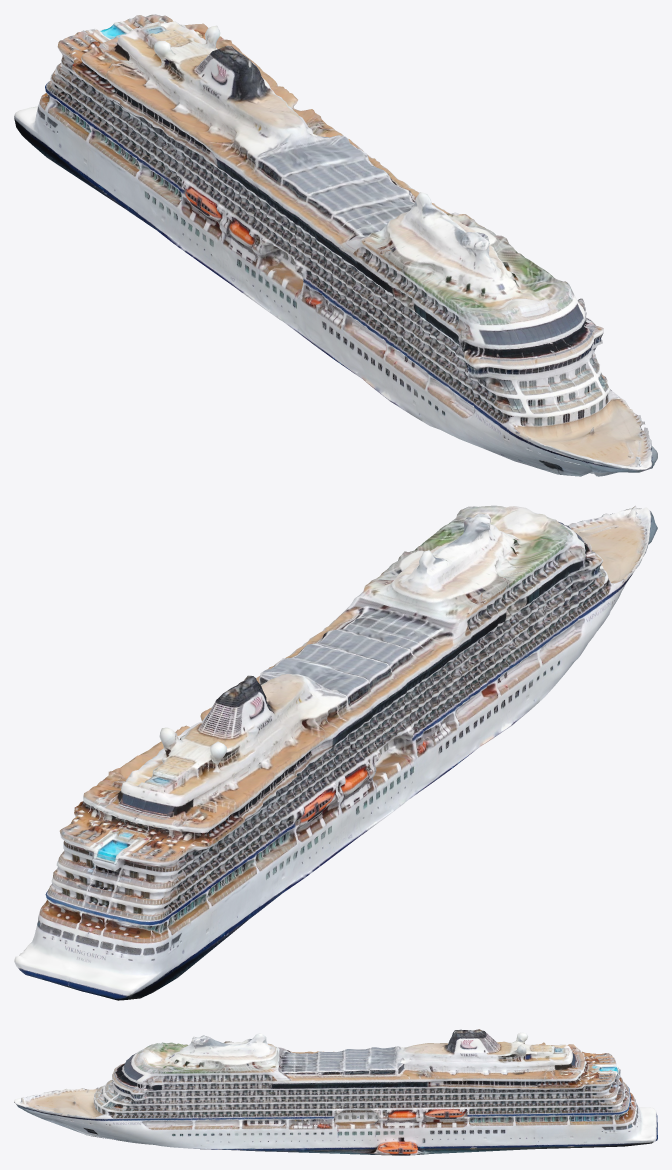
The model's file is viking_cruise_ship.glb.
3 renders of one model, top to bottom at view 1: azimuth 30°, elevation 25°; view 2: azimuth 150°, elevation 25°; view 3: azimuth 270°, elevation 25°, orthographic. The views are drawn at different scales.
Parts seen in each view (by area): view 1: Object_2; view 2: Object_2; view 3: Object_2.
Part boxes in pixels (x1,y1,x2,y2): Object_2: (14,14,657,476); Object_2: (14,505,657,1000); Object_2: (14,1029,657,1155).
Size of the model in its own units: 0.1933 by 0.2168 by 1.23.
Materials: 1 (1 with a texture image).
